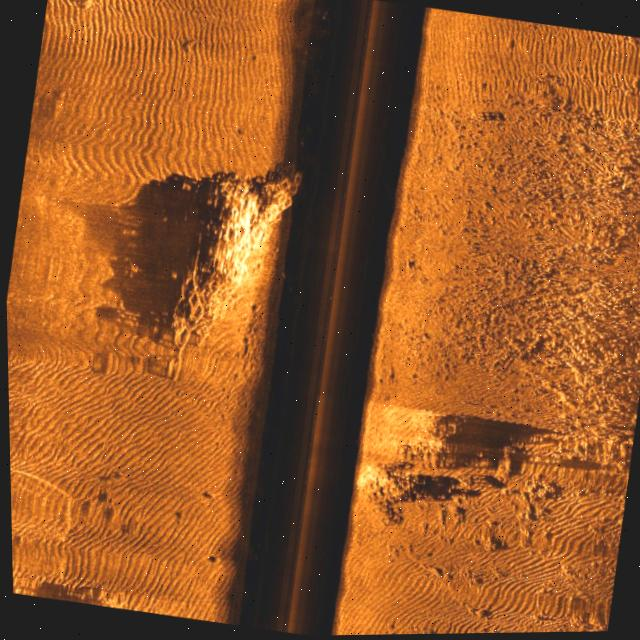artificial reef: (140, 129, 316, 376)
